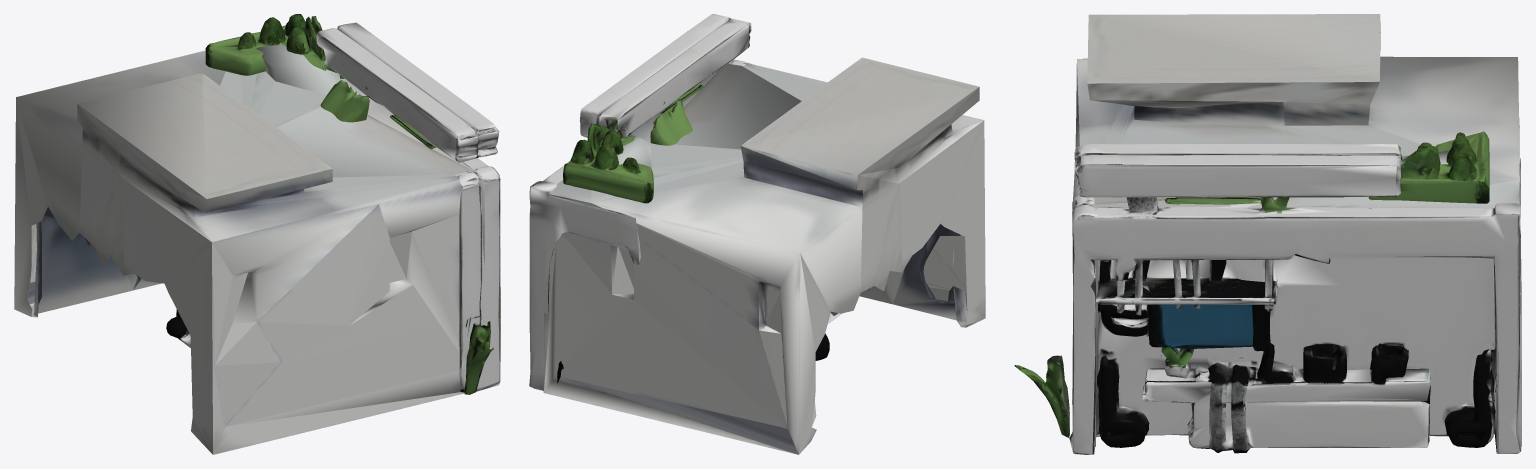
3 renders of one model, left to right at view 1: azimuth 30°, elevation 25°; view 2: azimuth 150°, elevation 25°; view 3: azimuth 270°, elevation 25°, orthographic. The views are drawn at different scales.
Parts seen in each view (by area): view 1: 蓝色电机; view 2: 蓝色电机; view 3: 蓝色电机.
Part boxes in pixels (left/top/right/bottom): 蓝色电机: left=14, top=14, right=500, bottom=454; 蓝色电机: left=529, top=14, right=985, bottom=454; 蓝色电机: left=1014, top=14, right=1521, bottom=454.
Bounding box in the file's own units: 10.62 × 9.19 × 14.23.
